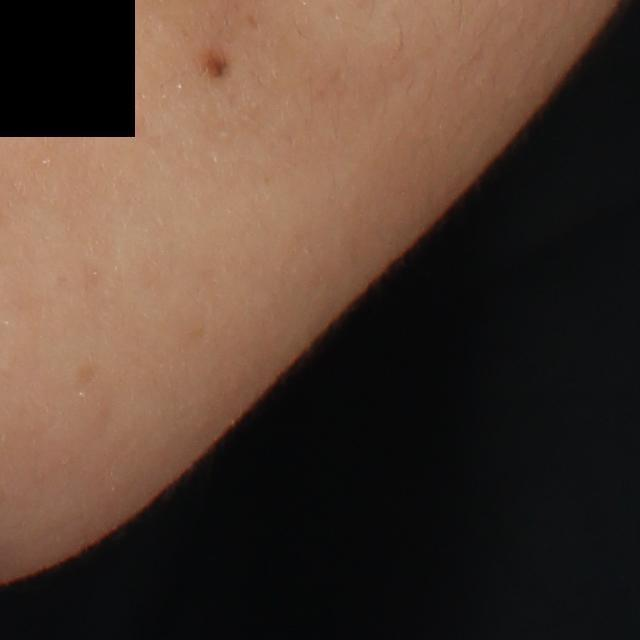nevus: (203, 46, 231, 81)
